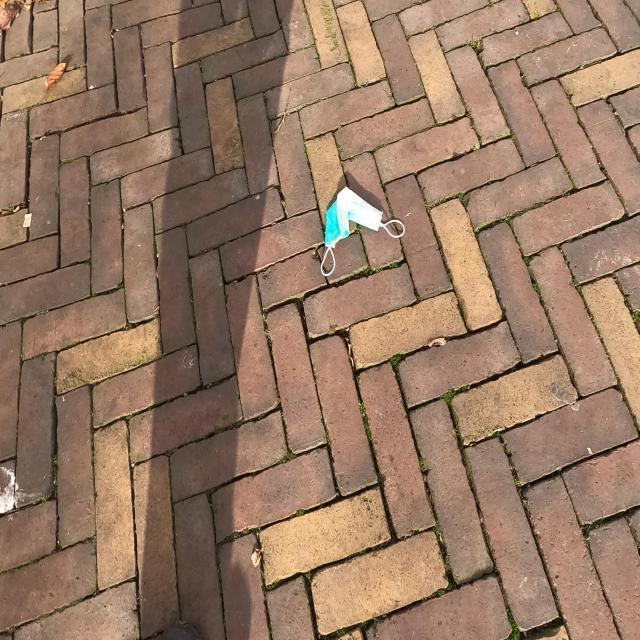Mask: (320, 184, 406, 278)
